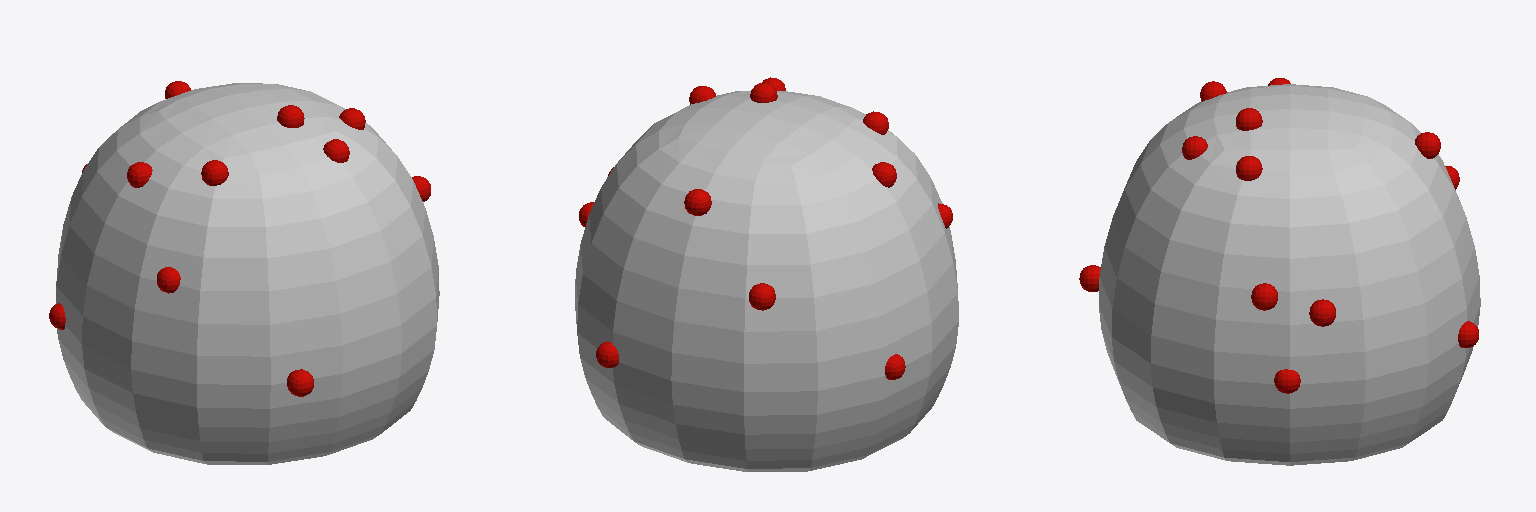
Rendered from Bush.obj.
The picture shows the model from 3 angles: view 1: azimuth 30°, elevation 25°; view 2: azimuth 150°, elevation 25°; view 3: azimuth 270°, elevation 25°; orthographic projection.
Parts seen in each view (by area): view 1: Cube; view 2: Cube; view 3: Cube.
Part boxes in pixels (x1,y1,x2,y2): Cube: (49, 81, 439, 464); Cube: (575, 77, 958, 471); Cube: (1079, 78, 1480, 465).
Bounding box in the file's own units: 3.41 × 2.98 × 3.47.